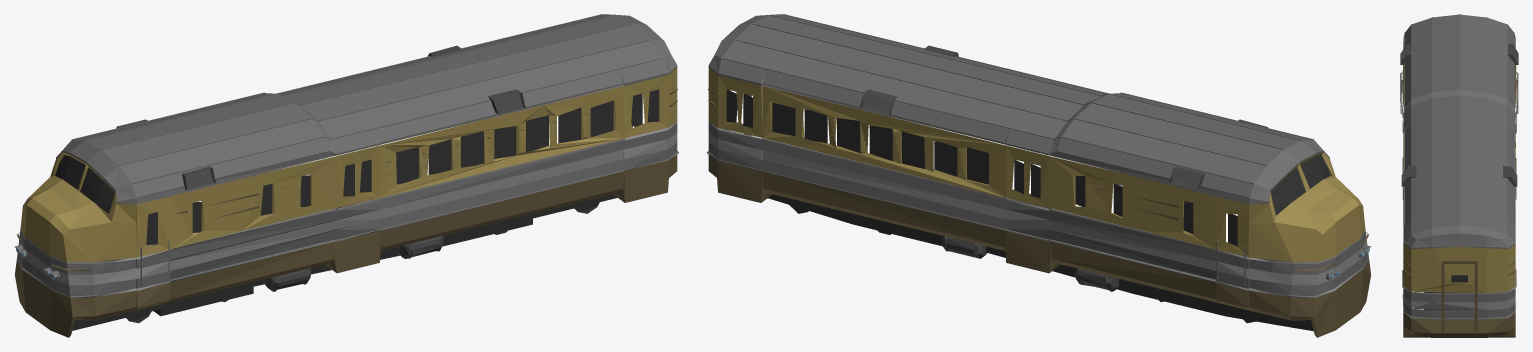
The model's file is cargo_front.glb.
The picture shows the model from 3 angles, left to right: view 1: azimuth 30°, elevation 25°; view 2: azimuth 150°, elevation 25°; view 3: azimuth 270°, elevation 25°; orthographic projection. The views are drawn at different scales.
Parts seen in each view (by area): view 1: Train; view 2: Train; view 3: Train.
Boxes of the visible parts, bbox=[...] form: Train: bbox=[14, 14, 678, 337]; Train: bbox=[707, 14, 1371, 337]; Train: bbox=[1400, 14, 1518, 337].
Size of the model in its own units: 10.35 by 2.68 by 2.15.
